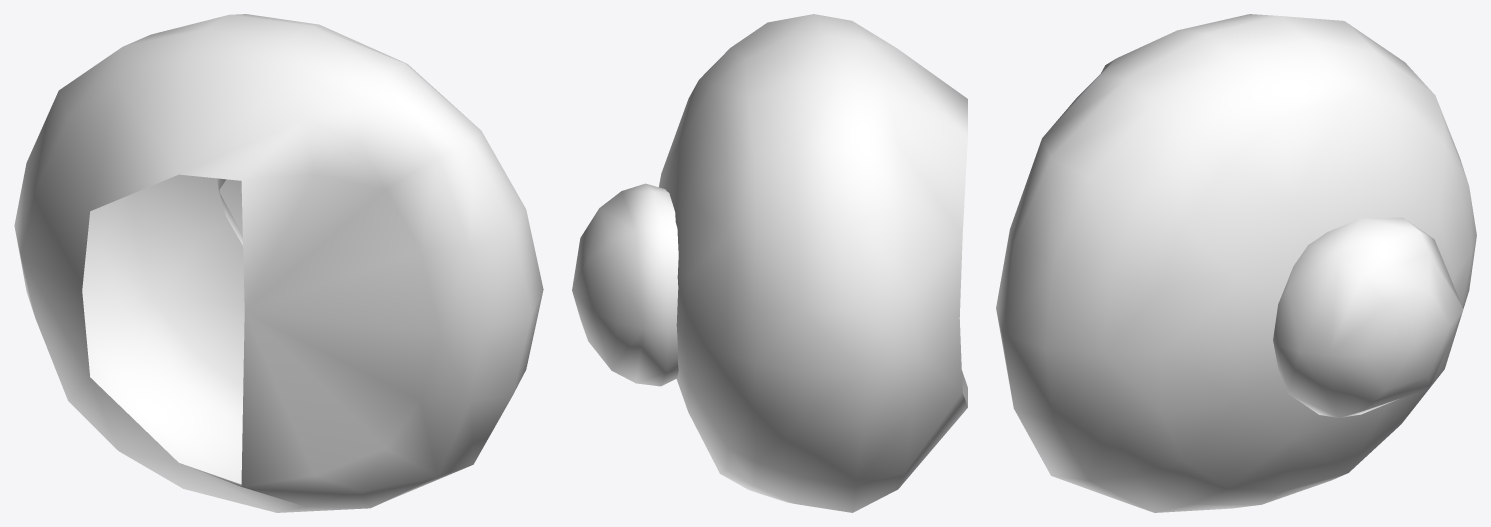
File: hlmt_onion_hair.dae
3 views of the same model, side by side, from view 1: azimuth 30°, elevation 25°; view 2: azimuth 150°, elevation 25°; view 3: azimuth 270°, elevation 25° (orthographic). The views are drawn at different scales.
Visible parts, largest first — view 1: hlmt_onion_hair; view 2: hlmt_onion_hair; view 3: hlmt_onion_hair.
Part boxes in pixels (x1,y1,x2,y2): hlmt_onion_hair: (14,14,543,512); hlmt_onion_hair: (572,14,967,512); hlmt_onion_hair: (996,14,1476,512).
Bounding box in the file's own units: 23.19 × 27.92 × 26.31.
Materials: 1 (1 with a texture image).
